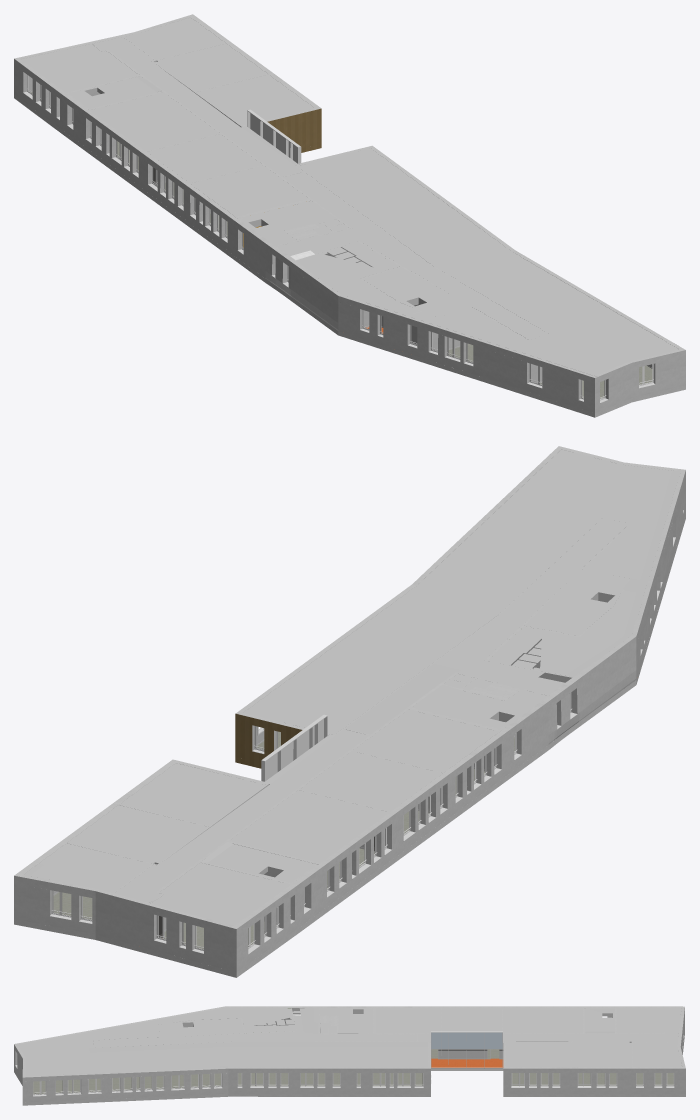
Rendered from 3_floor_aisle_b_sized_v3.glb.
The picture shows the model from 3 angles, top to bottom: view 1: azimuth 30°, elevation 25°; view 2: azimuth 150°, elevation 25°; view 3: azimuth 270°, elevation 25°; orthographic projection. The views are drawn at different scales.
Parts seen in each view (by area): view 1: Plafond, Murs, UFR_MIM_V1_Montant_portes, Sol; view 2: Plafond, Murs, UFR_MIM_V1_Montant_portes, Sol; view 3: Plafond, Murs, Sol, UFR_MIM_V1_Montant_portes, SM_MERGED_fenetre_3e_aileb.
Boxes of the visible parts, left/top/right/bottom form: Plafond: left=21, top=17, right=678, bottom=376; Murs: left=14, top=14, right=685, bottom=417; UFR_MIM_V1_Montant_portes: left=23, top=75, right=655, bottom=403; Sol: left=31, top=92, right=652, bottom=398; Plafond: left=23, top=449, right=680, bottom=925; Murs: left=14, top=446, right=685, bottom=977; UFR_MIM_V1_Montant_portes: left=50, top=510, right=683, bottom=954; Sol: left=53, top=731, right=514, bottom=948; Plafond: left=15, top=1007, right=681, bottom=1075; Murs: left=14, top=1006, right=685, bottom=1105; Sol: left=33, top=1049, right=673, bottom=1094; UFR_MIM_V1_Montant_portes: left=15, top=1011, right=684, bottom=1096; SM_MERGED_fenetre_3e_aileb: left=431, top=1032, right=502, bottom=1048.
Size of what is drawn, in the model's own units: 18.93 by 4.92 by 75.11.
34 materials, 9 textured.
